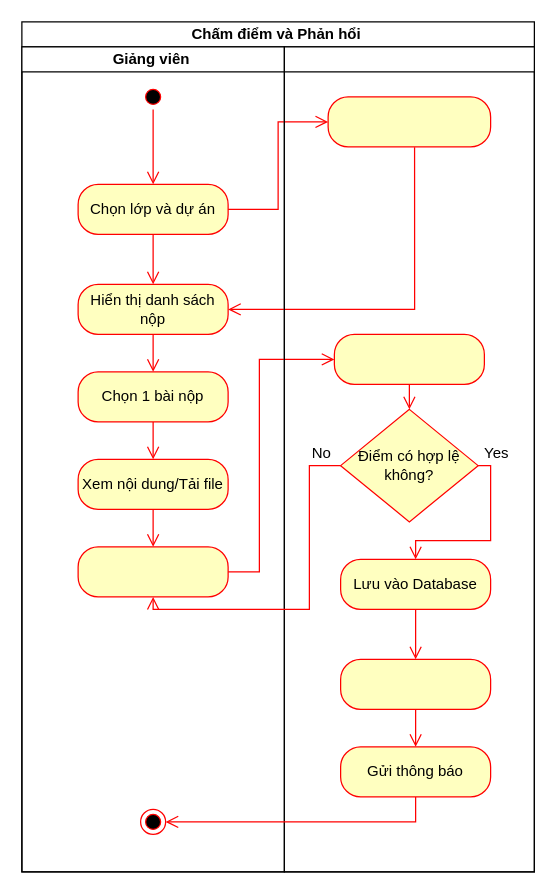
Some shapes in this 556 by 894 pixel diagram are drawn without their labels. The box of each missing label's shape, as (x1, y1, x2, y2) in pixels:
Cập nhật trạng thái: (339, 658, 491, 709)
Hệ thống: (283, 46, 534, 872)
Lưu và đánh giá: (333, 333, 484, 384)
Lấy danh sách bài nộp của nhóm/ Sinh viên: (327, 96, 491, 147)
Nhập điểm và nhận xét: (77, 546, 228, 597)
